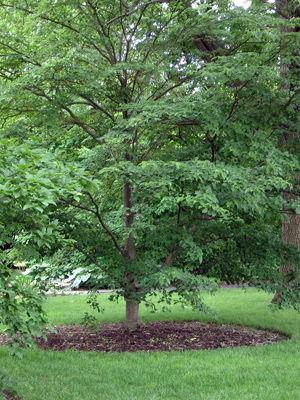dirt: (33, 309, 287, 351)
grass: (0, 345, 298, 395)
tree: (121, 275, 143, 331)
